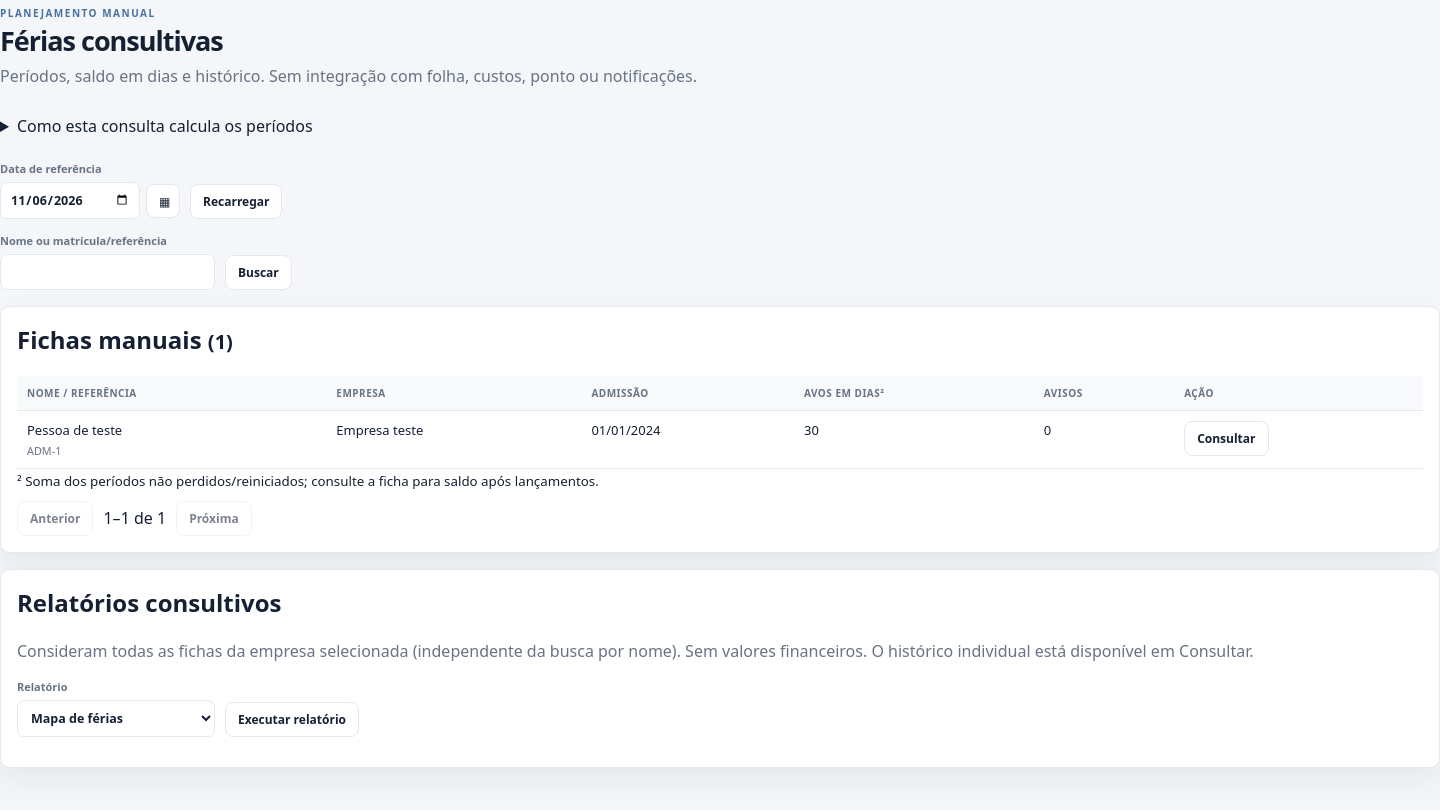
Scenario: Férias consultivas › oferece consulta sem ações de edição para Consultor
The image size is (1440, 810).
Click the button "Consultar".
click(1226, 438)  # box [1184,421,1268,456]
(page scrolled)
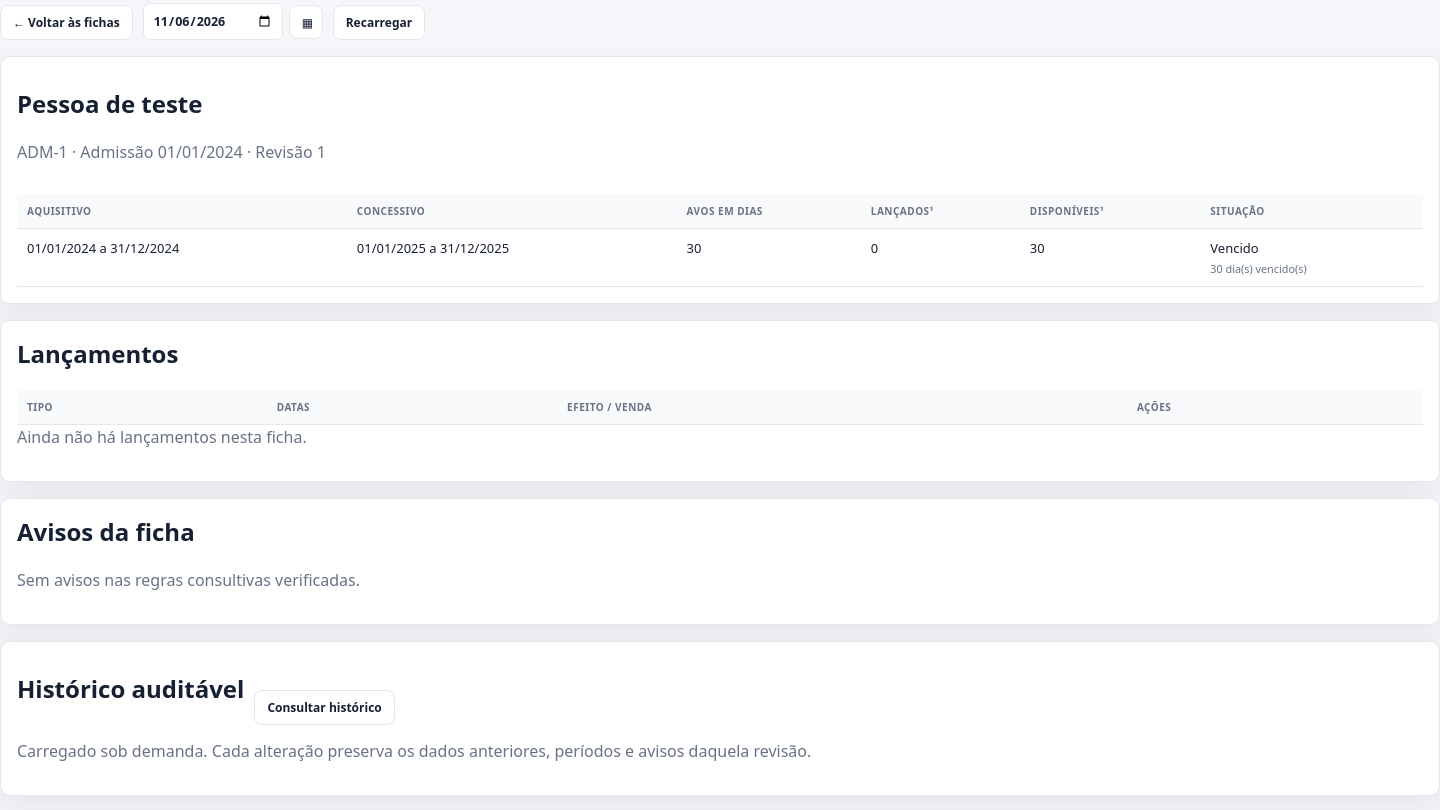
Expected: the button "Consultar histórico" is shown, [254,690,395,725]
